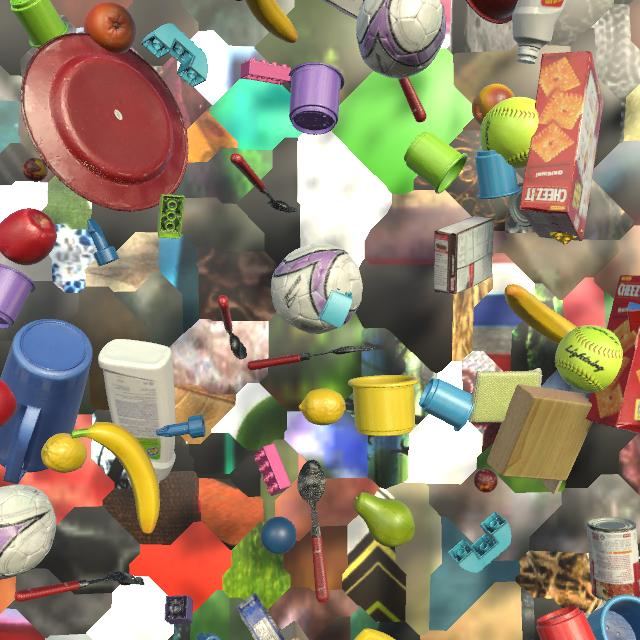ycb_003_cracker_box: (519, 51, 604, 241), (586, 275, 640, 435), (322, 0, 363, 19)
ycb_005_tomato_soup_can: (587, 517, 640, 602), (509, 183, 591, 227)
ycb_006_mustard_bottle: (354, 628, 395, 640)
ycb_007_tuna_fish_can: (235, 593, 286, 640)
ycb_008_pudding_box: (434, 216, 494, 294)
ycb_011_banana: (70, 422, 160, 534), (504, 284, 577, 345), (245, 0, 298, 43)
ycb_013_apple: (0, 208, 57, 265), (0, 379, 17, 427)
ycb_014_lemon: (41, 433, 87, 473), (299, 388, 346, 425)
ycb_015_peach: (472, 84, 515, 125)
ycb_016_pear: (354, 492, 415, 547)
ycb_017_orange: (84, 2, 136, 53)
